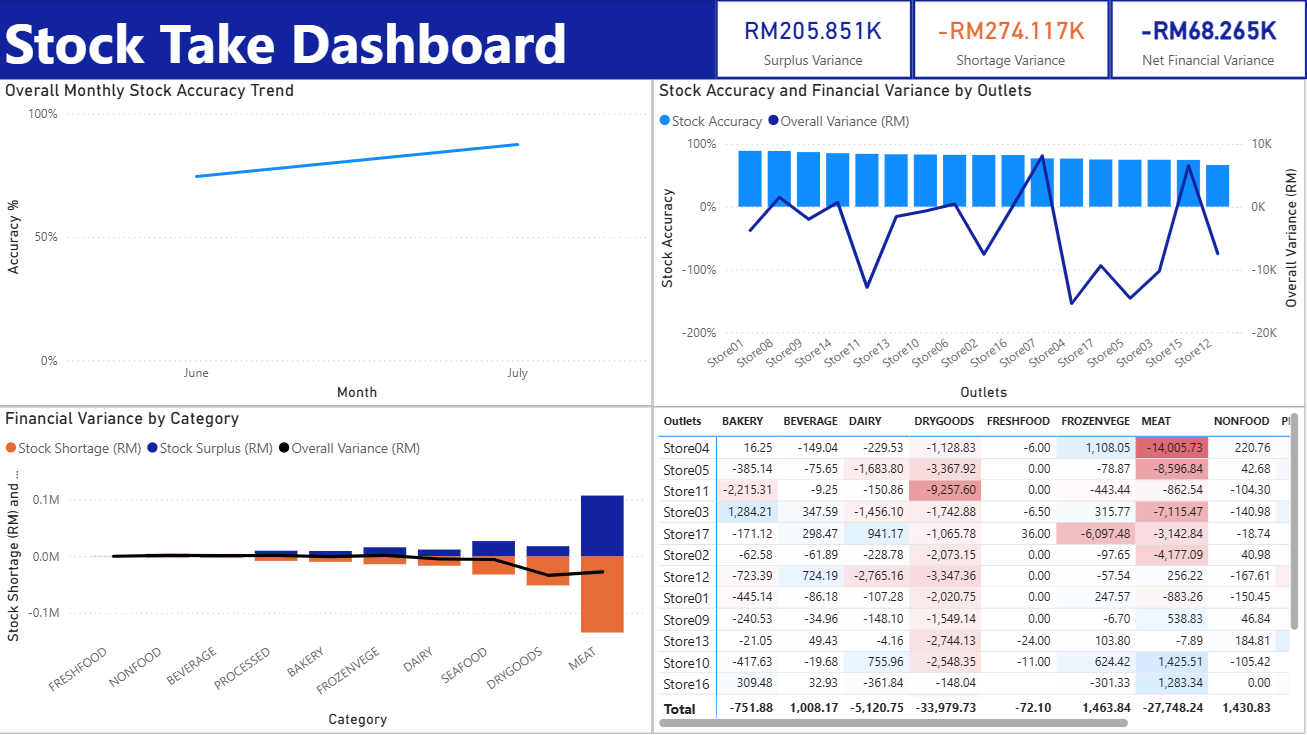

Layout of this report page (visuals, bound fields, positions):
{"tool":"powerbi","page":{"name":"Dashboard","canvas":[1280,720],"ordinal":0},"visuals":[{"type":"lineChart","title":"Overall Monthly Stock Accuracy Trend","fields":{"Y":["Combined.Accuracy %"],"Category":["Combined.Month.Variation.Date Hierarchy.Month"]},"box":[0,78.3,639.5,320.4],"z":0},{"type":"lineStackedColumnComboChart","title":"Stock Accuracy and Financial Variance by Outlets","fields":{"Category":["Combined.Outlets"],"Y":["Combined.Accuracy %"],"Y2":["Sum(Combined.FINAL Variance (RM))"]},"box":[640.1,77.8,638.8,320.8],"z":1000},{"type":"lineStackedColumnComboChart","title":"Financial Variance by Category","fields":{"Category":["Combined.Category"],"Y":["Sum(Combined.Stock Shortage RM)","Sum(Combined.Stock Surplus RM)"],"Y2":["Sum(Combined.FINAL Variance (RM))"]},"box":[0,398.6,639.5,320.4],"z":2000},{"type":"textbox","box":[0,0,1059,78.3],"z":3000},{"type":"card","fields":{"Values":["Sum(Combined.FINAL Variance (RM))"]},"box":[1087.3,0,193,78.5],"z":4000},{"type":"card","fields":{"Values":["Sum(Combined.Stock Shortage RM)"]},"box":[894.3,0,193,78.5],"z":6000},{"type":"card","fields":{"Values":["Sum(Combined.Stock Surplus RM)"]},"box":[701.2,0,193,78.5],"z":7000},{"type":"pivotTable","fields":{"Rows":["Combined.Outlets"],"Columns":["Combined.Category"],"Values":["Sum(Combined.FINAL Variance (RM))"]},"box":[639.5,398.6,638.3,320.4],"z":8000}]}

Visuals, with their boxes in screenshot pixels (x1, y1, x2, y2), scaled from the page's 1280x720 canvas onto the 1307x735 screenshot:
"Overall Monthly Stock Accuracy Trend" lineChart: (left=0, top=80, right=653, bottom=407)
"Stock Accuracy and Financial Variance by Outlets" lineStackedColumnComboChart: (left=654, top=79, right=1306, bottom=407)
"Financial Variance by Category" lineStackedColumnComboChart: (left=0, top=407, right=653, bottom=734)
textbox: (left=0, top=0, right=1081, bottom=80)
card - Sum(Combined.FINAL Variance (RM)): (left=1110, top=0, right=1306, bottom=80)
card - Sum(Combined.Stock Shortage RM): (left=913, top=0, right=1110, bottom=80)
card - Sum(Combined.Stock Surplus RM): (left=716, top=0, right=913, bottom=80)
pivotTable - Combined.Outlets x Combined.Category: (left=653, top=407, right=1305, bottom=734)
